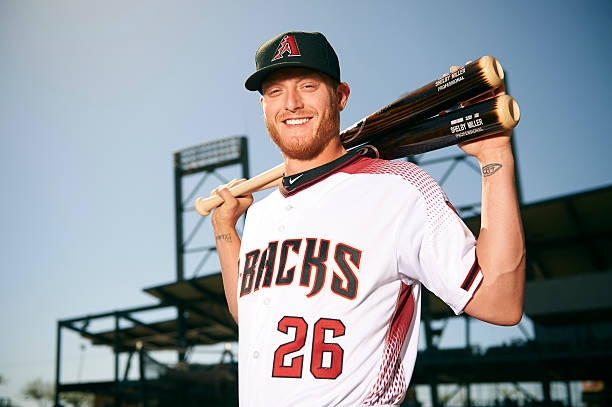bita: (340, 57, 506, 132), (363, 97, 523, 151)
